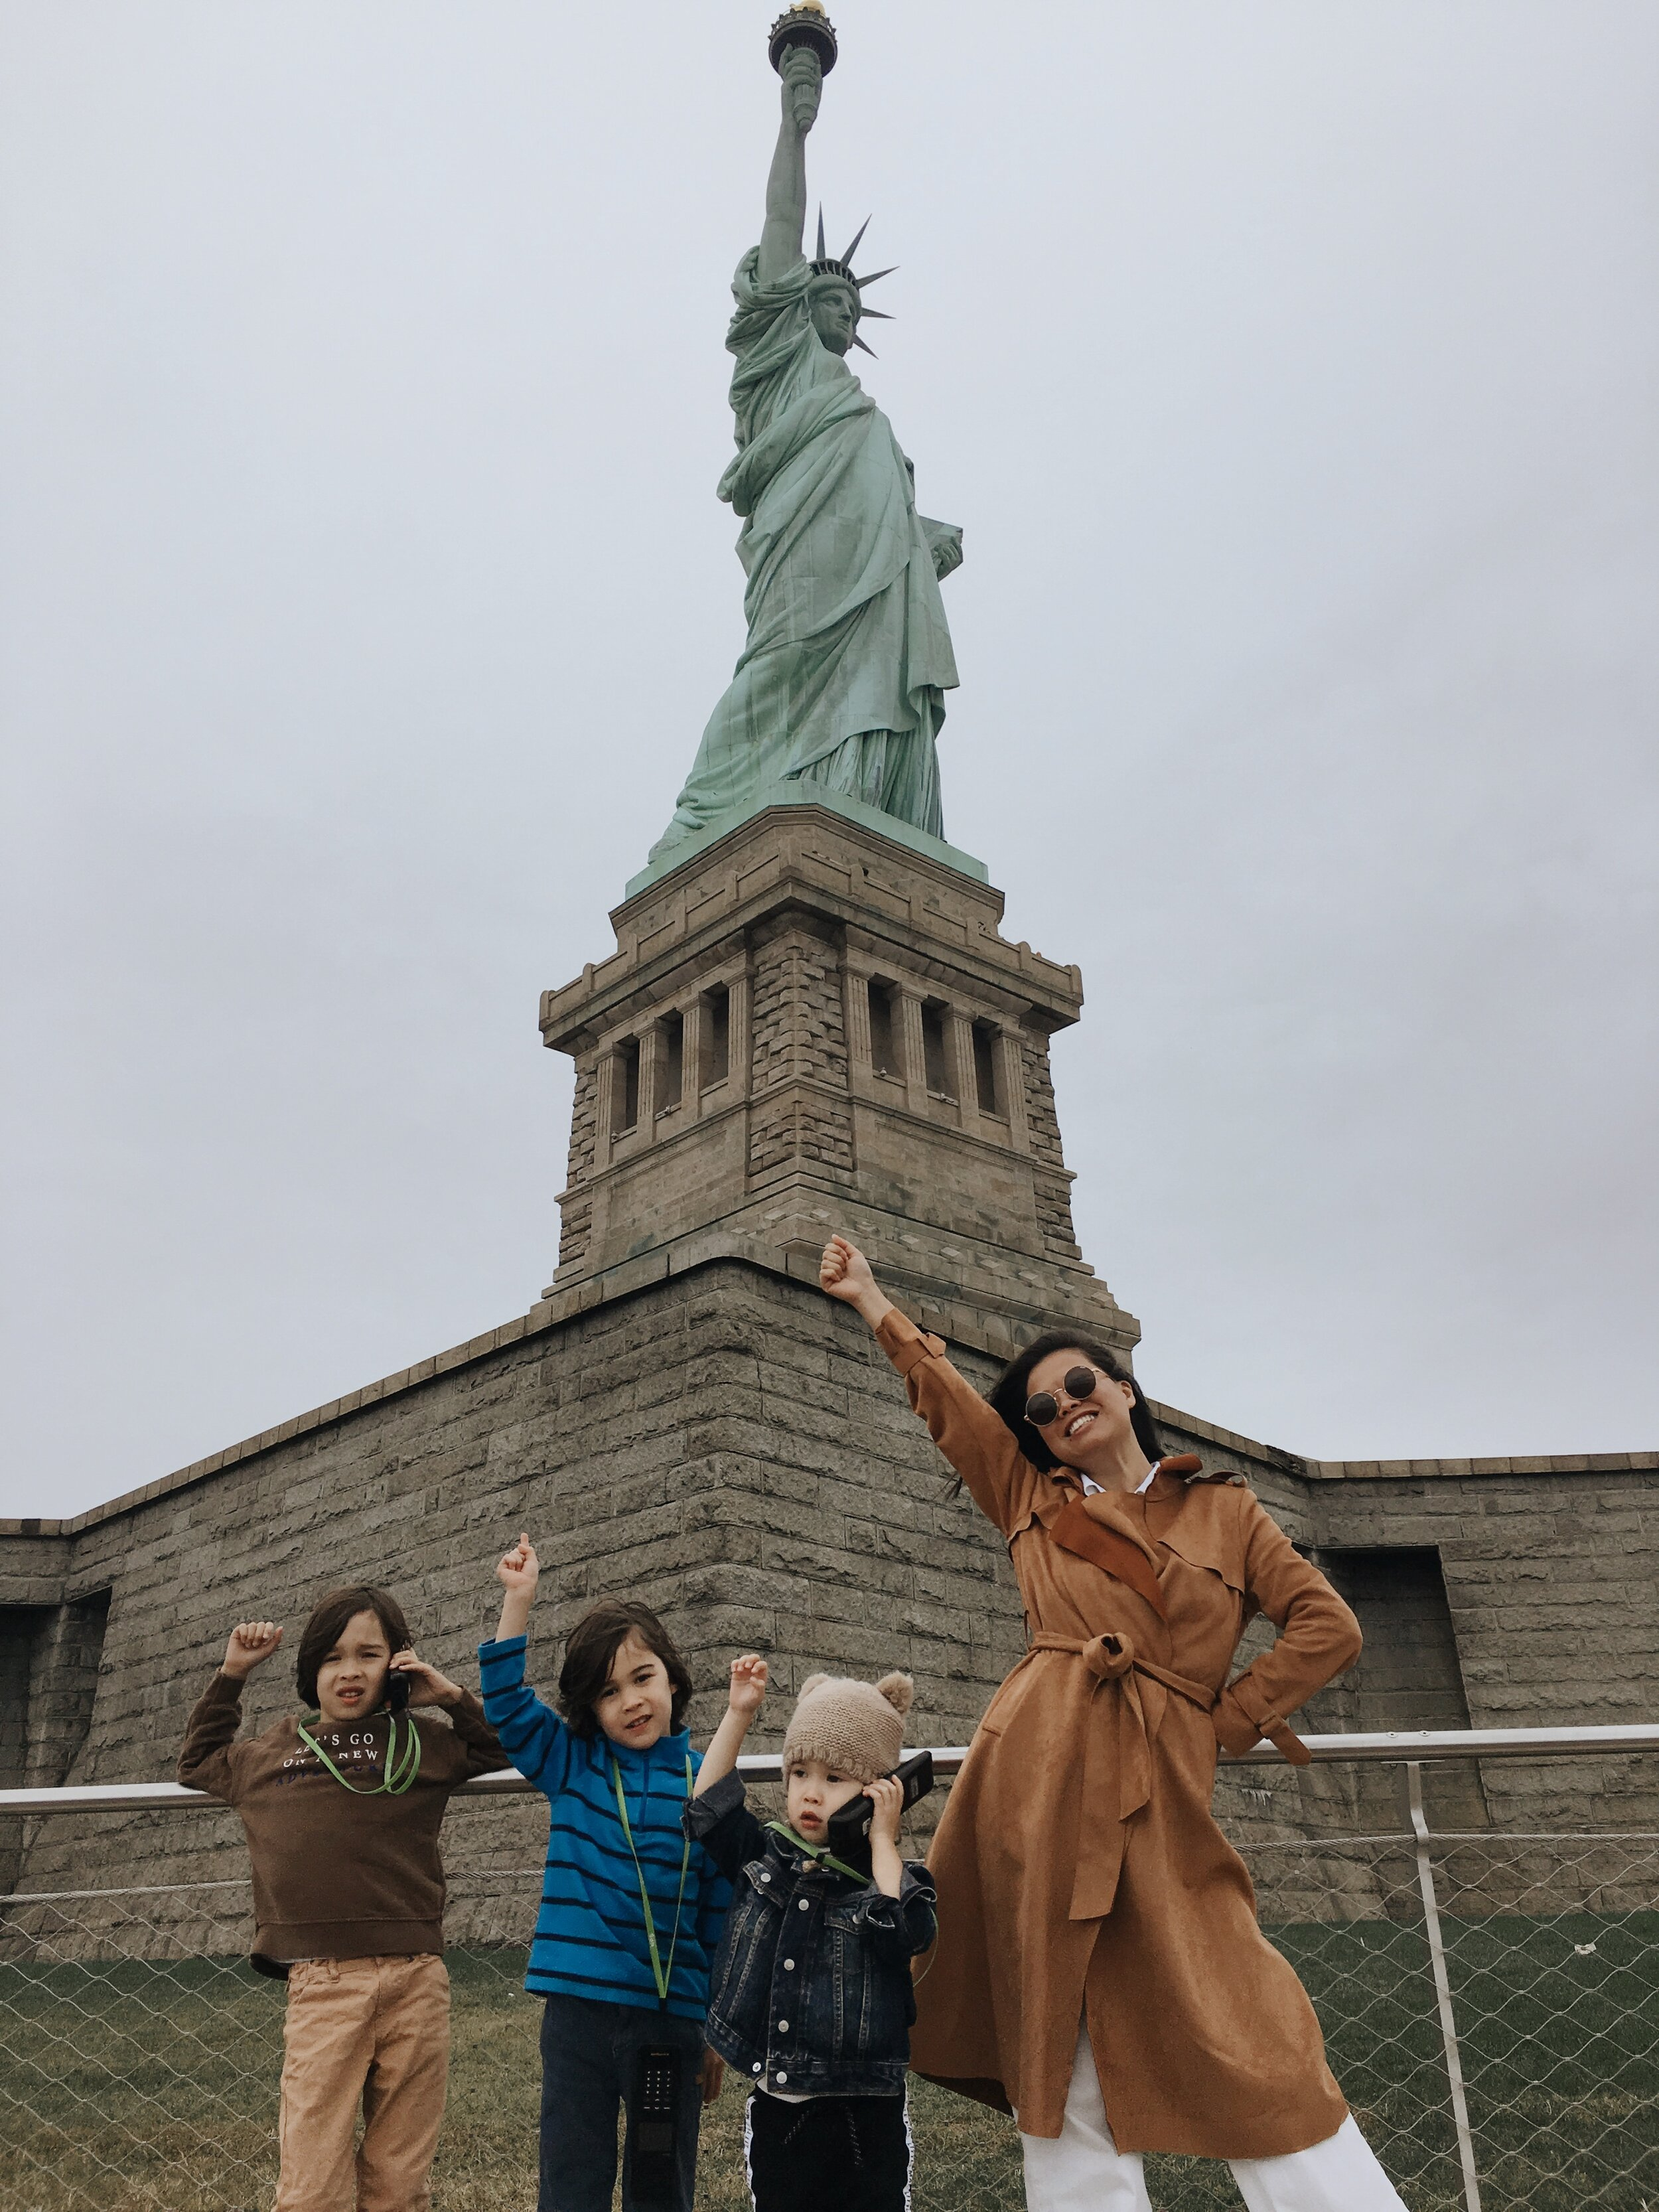statue of liberty pose: (817, 1218, 1446, 2212), (171, 1576, 507, 2212), (474, 1522, 741, 2212), (681, 1633, 953, 2212)
